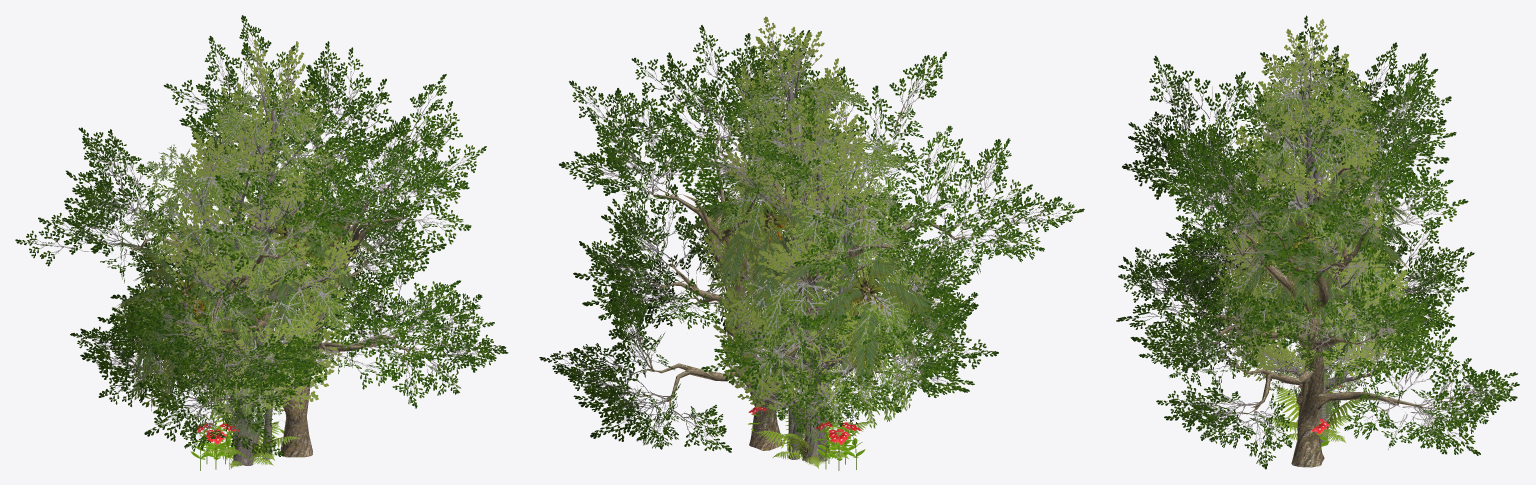
File: natur.glb
3 views of the same model, side by side, from view 1: azimuth 30°, elevation 25°; view 2: azimuth 150°, elevation 25°; view 3: azimuth 270°, elevation 25° (orthographic). The views are drawn at different scales.
Visible parts, largest first — view 1: oak leaf_1, birch leaf_1, elm leaf_1, Tree_2, mossybark02_0, Tree_1 (×3), bark07_0, Tree_0, bark11_0, Object_2; view 2: oak leaf_1, birch leaf_1, elm leaf_1, Tree_2, mossybark02_0, Tree_1 (×3), Tree_0 (×3), bark07_0, bark11_0, Object_2, Tree_3; view 3: oak leaf_1, elm leaf_1, birch leaf_1, mossybark02_0, Tree_2, Tree_1 (×3), bark07_0, Tree_0.
Boxes of the visible parts, x1,y1,x2,y2 form: oak leaf_1: (15, 15, 508, 456); birch leaf_1: (114, 86, 357, 423); elm leaf_1: (146, 39, 359, 414); Tree_2: (111, 159, 393, 399); mossybark02_0: (77, 94, 449, 457); Tree_1 (×3): (183, 229, 303, 442); bark07_0: (187, 77, 336, 465); Tree_0: (201, 401, 301, 468); bark11_0: (152, 103, 324, 408); Object_2: (190, 422, 284, 459); oak leaf_1: (539, 25, 1084, 452); birch leaf_1: (702, 66, 926, 428); elm leaf_1: (702, 16, 934, 416); Tree_2: (681, 157, 959, 390); mossybark02_0: (602, 96, 1020, 450); Tree_1 (×3): (748, 221, 881, 450); Tree_0 (×3): (755, 234, 872, 468); bark07_0: (720, 49, 879, 461); bark11_0: (746, 77, 888, 461); Object_2: (748, 413, 865, 460); Tree_3: (758, 199, 883, 304); oak leaf_1: (1116, 15, 1519, 469); elm leaf_1: (1215, 19, 1419, 381); birch leaf_1: (1217, 60, 1423, 360); mossybark02_0: (1170, 86, 1469, 467); Tree_2: (1228, 166, 1410, 329); Tree_1 (×3): (1254, 200, 1377, 421); bark07_0: (1242, 53, 1382, 389); Tree_0: (1262, 386, 1362, 442).
Size of the model in its own units: 10.53 by 9.5 by 8.2.
22 materials, 21 textured.
